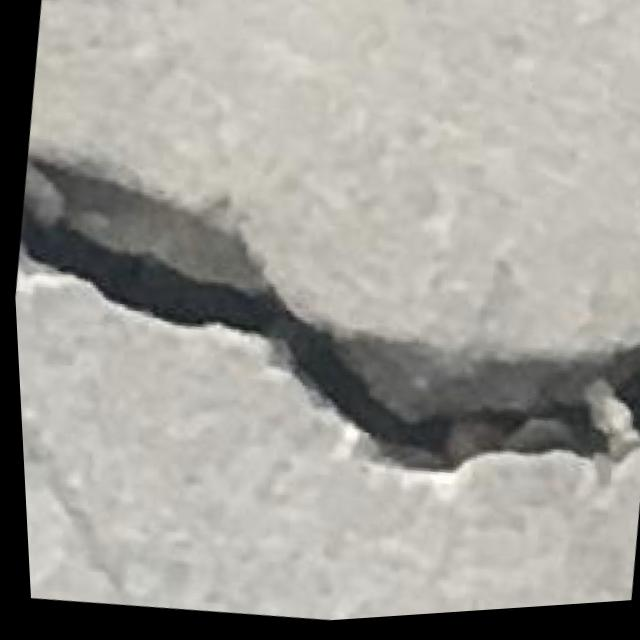Crack: (6, 106, 640, 544)
